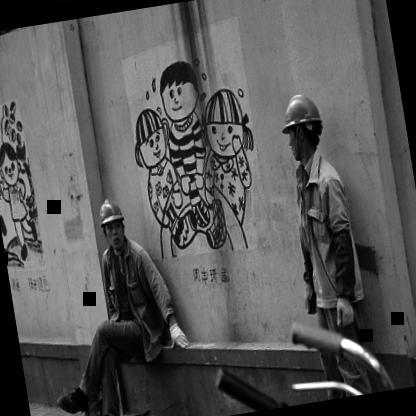helmet: (270, 84, 336, 173), (91, 186, 134, 256)
